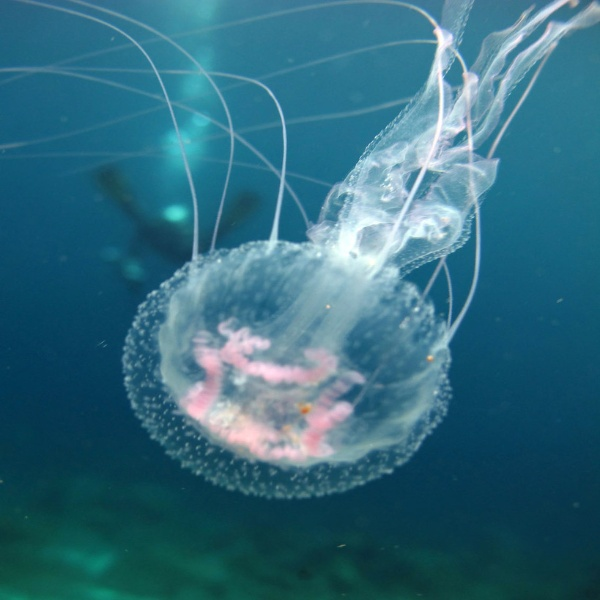Jellyfish: (0, 0, 599, 497)
